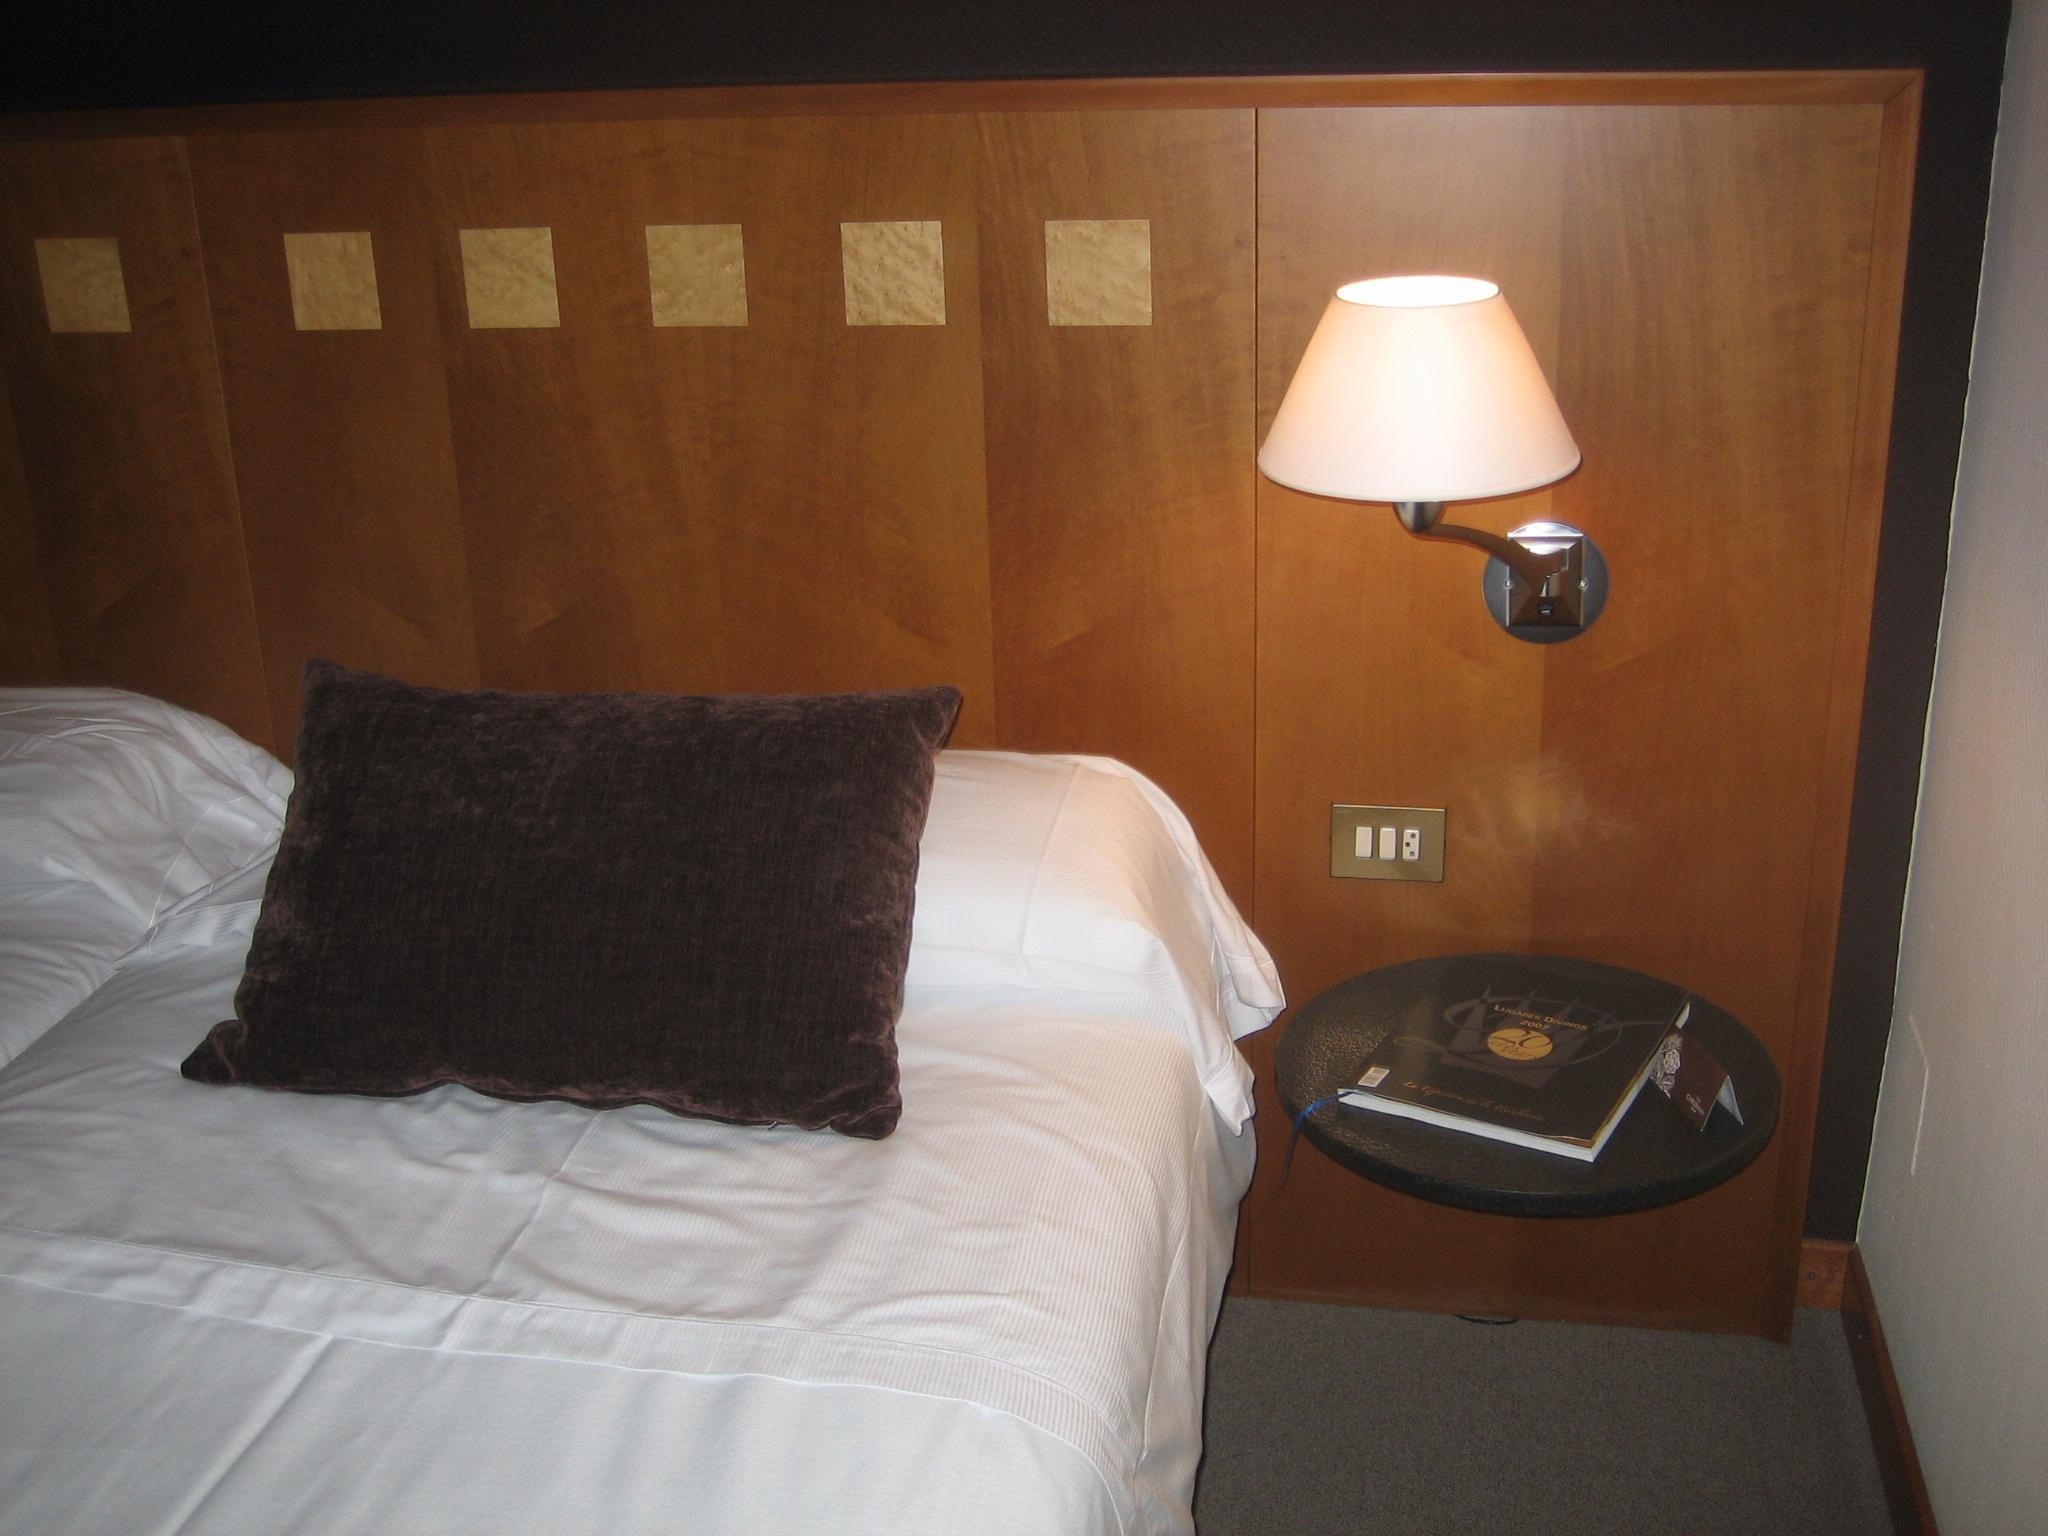Cama: (3, 712, 1238, 1526)
